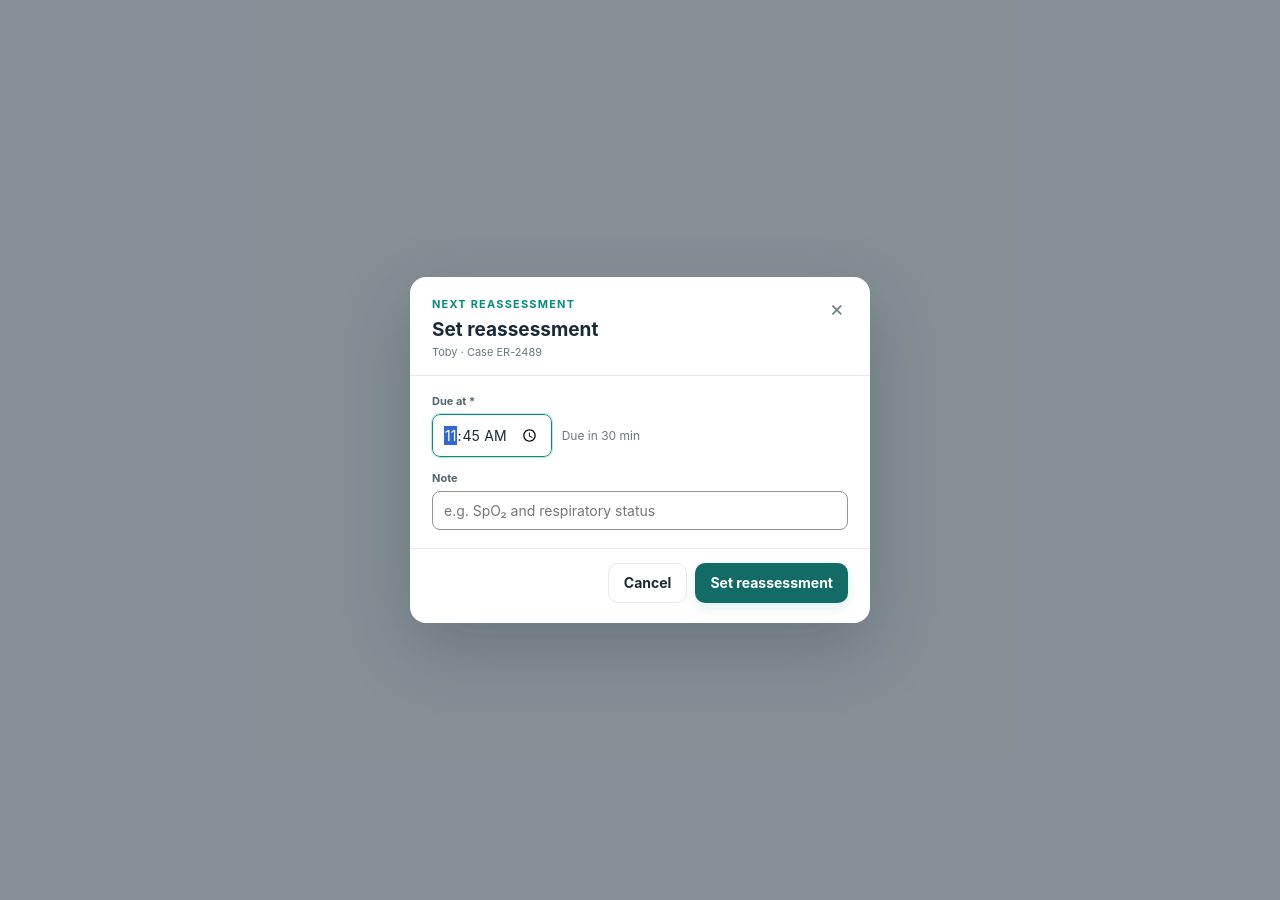
Test: DueItemDialog › explains a 409 in the dialog
The width and height of the screenshot is (1280, 900).
Click the button "Set reassessment" at (772, 583), box [695,563,848,603]
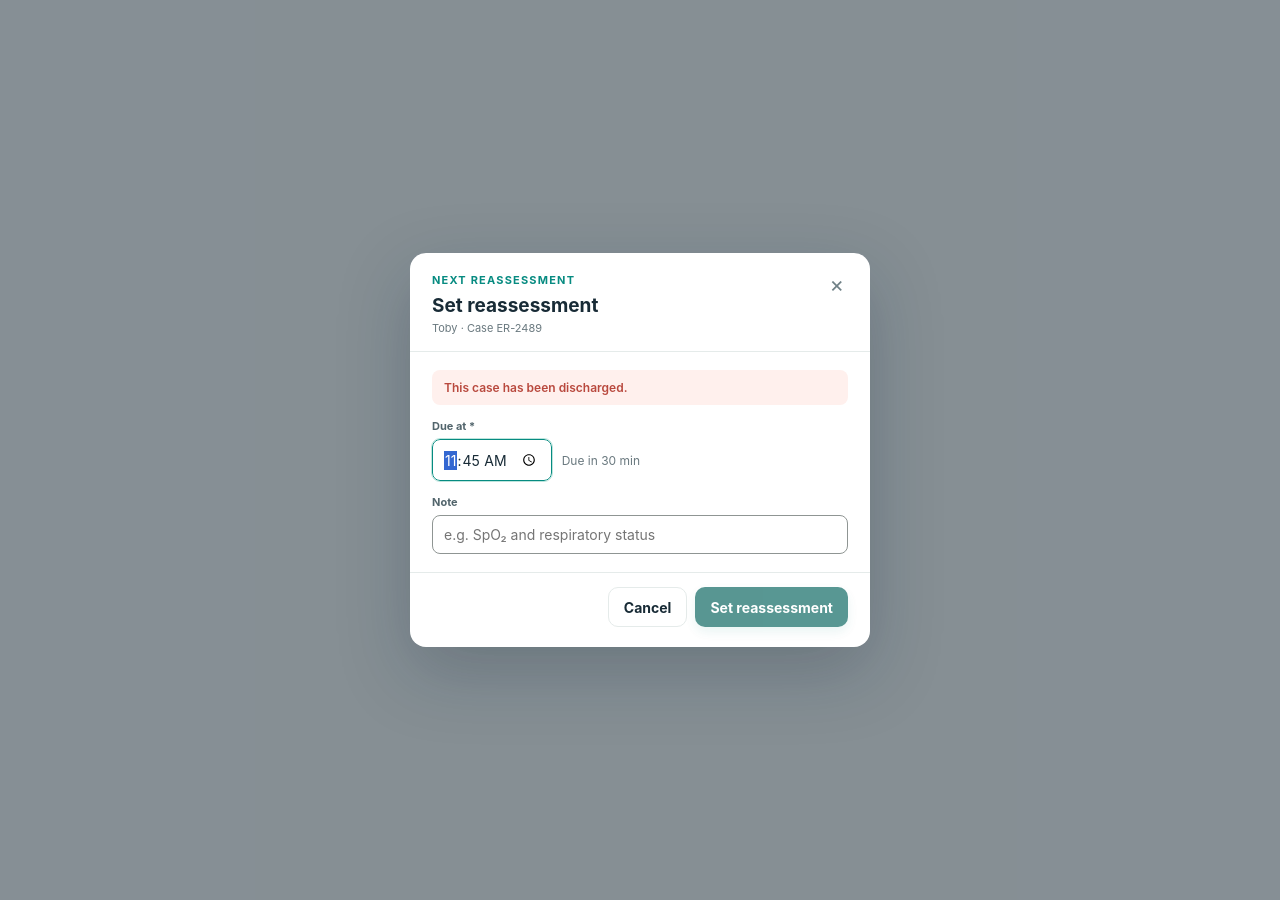
Expected: the message reads "This case has been discharged.", [444,380,628,395]
